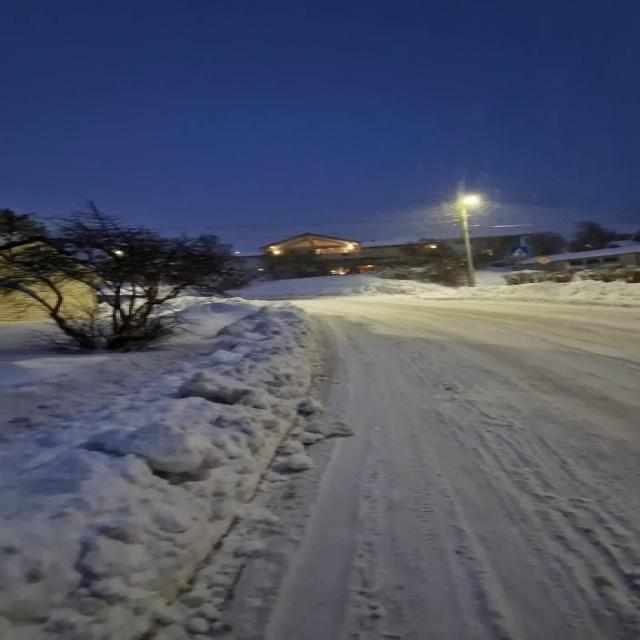path: (264, 298, 638, 640)
